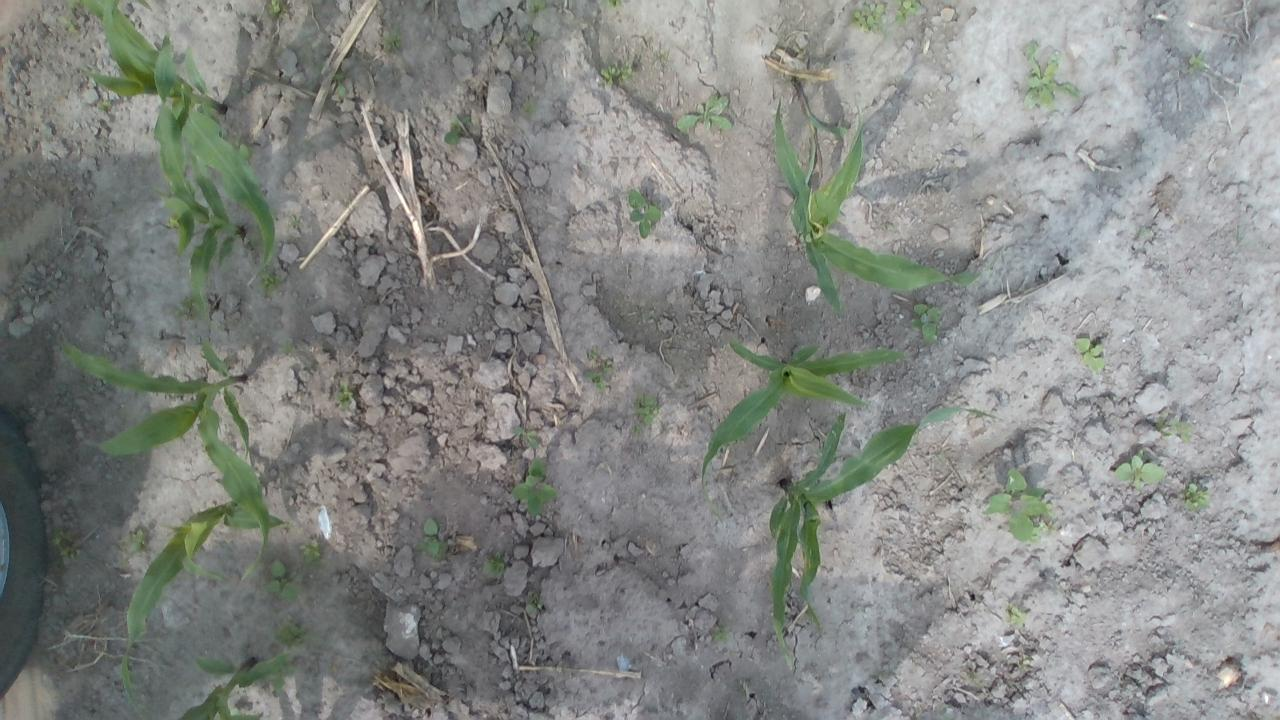Maize: (55, 289, 268, 588), (770, 402, 999, 654), (81, 0, 278, 284), (773, 92, 984, 308), (120, 477, 284, 709), (702, 336, 914, 478), (153, 34, 248, 304), (178, 654, 288, 719), (787, 77, 848, 185)
Weeds: (986, 466, 1046, 540), (1023, 54, 1077, 110), (512, 459, 555, 520), (674, 92, 732, 135), (1116, 453, 1166, 490), (626, 187, 660, 238), (265, 559, 297, 600), (912, 303, 942, 342), (583, 350, 613, 388), (1077, 338, 1107, 373), (850, 2, 887, 29), (424, 518, 449, 556), (632, 392, 662, 422), (602, 63, 634, 91), (512, 427, 544, 451), (484, 550, 510, 578), (51, 529, 75, 558), (278, 623, 308, 645), (1164, 419, 1194, 440), (1186, 483, 1210, 508), (894, 0, 920, 22), (299, 540, 322, 564), (382, 31, 406, 52), (1008, 601, 1026, 628), (178, 297, 196, 319), (331, 75, 347, 99), (336, 387, 356, 406), (130, 528, 147, 550), (525, 98, 543, 118), (714, 624, 734, 642), (1188, 52, 1206, 72), (446, 124, 462, 146), (1021, 42, 1039, 58), (267, 0, 285, 15), (524, 30, 538, 48), (524, 1, 544, 12), (236, 140, 250, 154), (600, 0, 626, 7), (261, 274, 274, 288), (64, 1, 84, 10), (98, 100, 114, 110), (65, 20, 76, 31)
